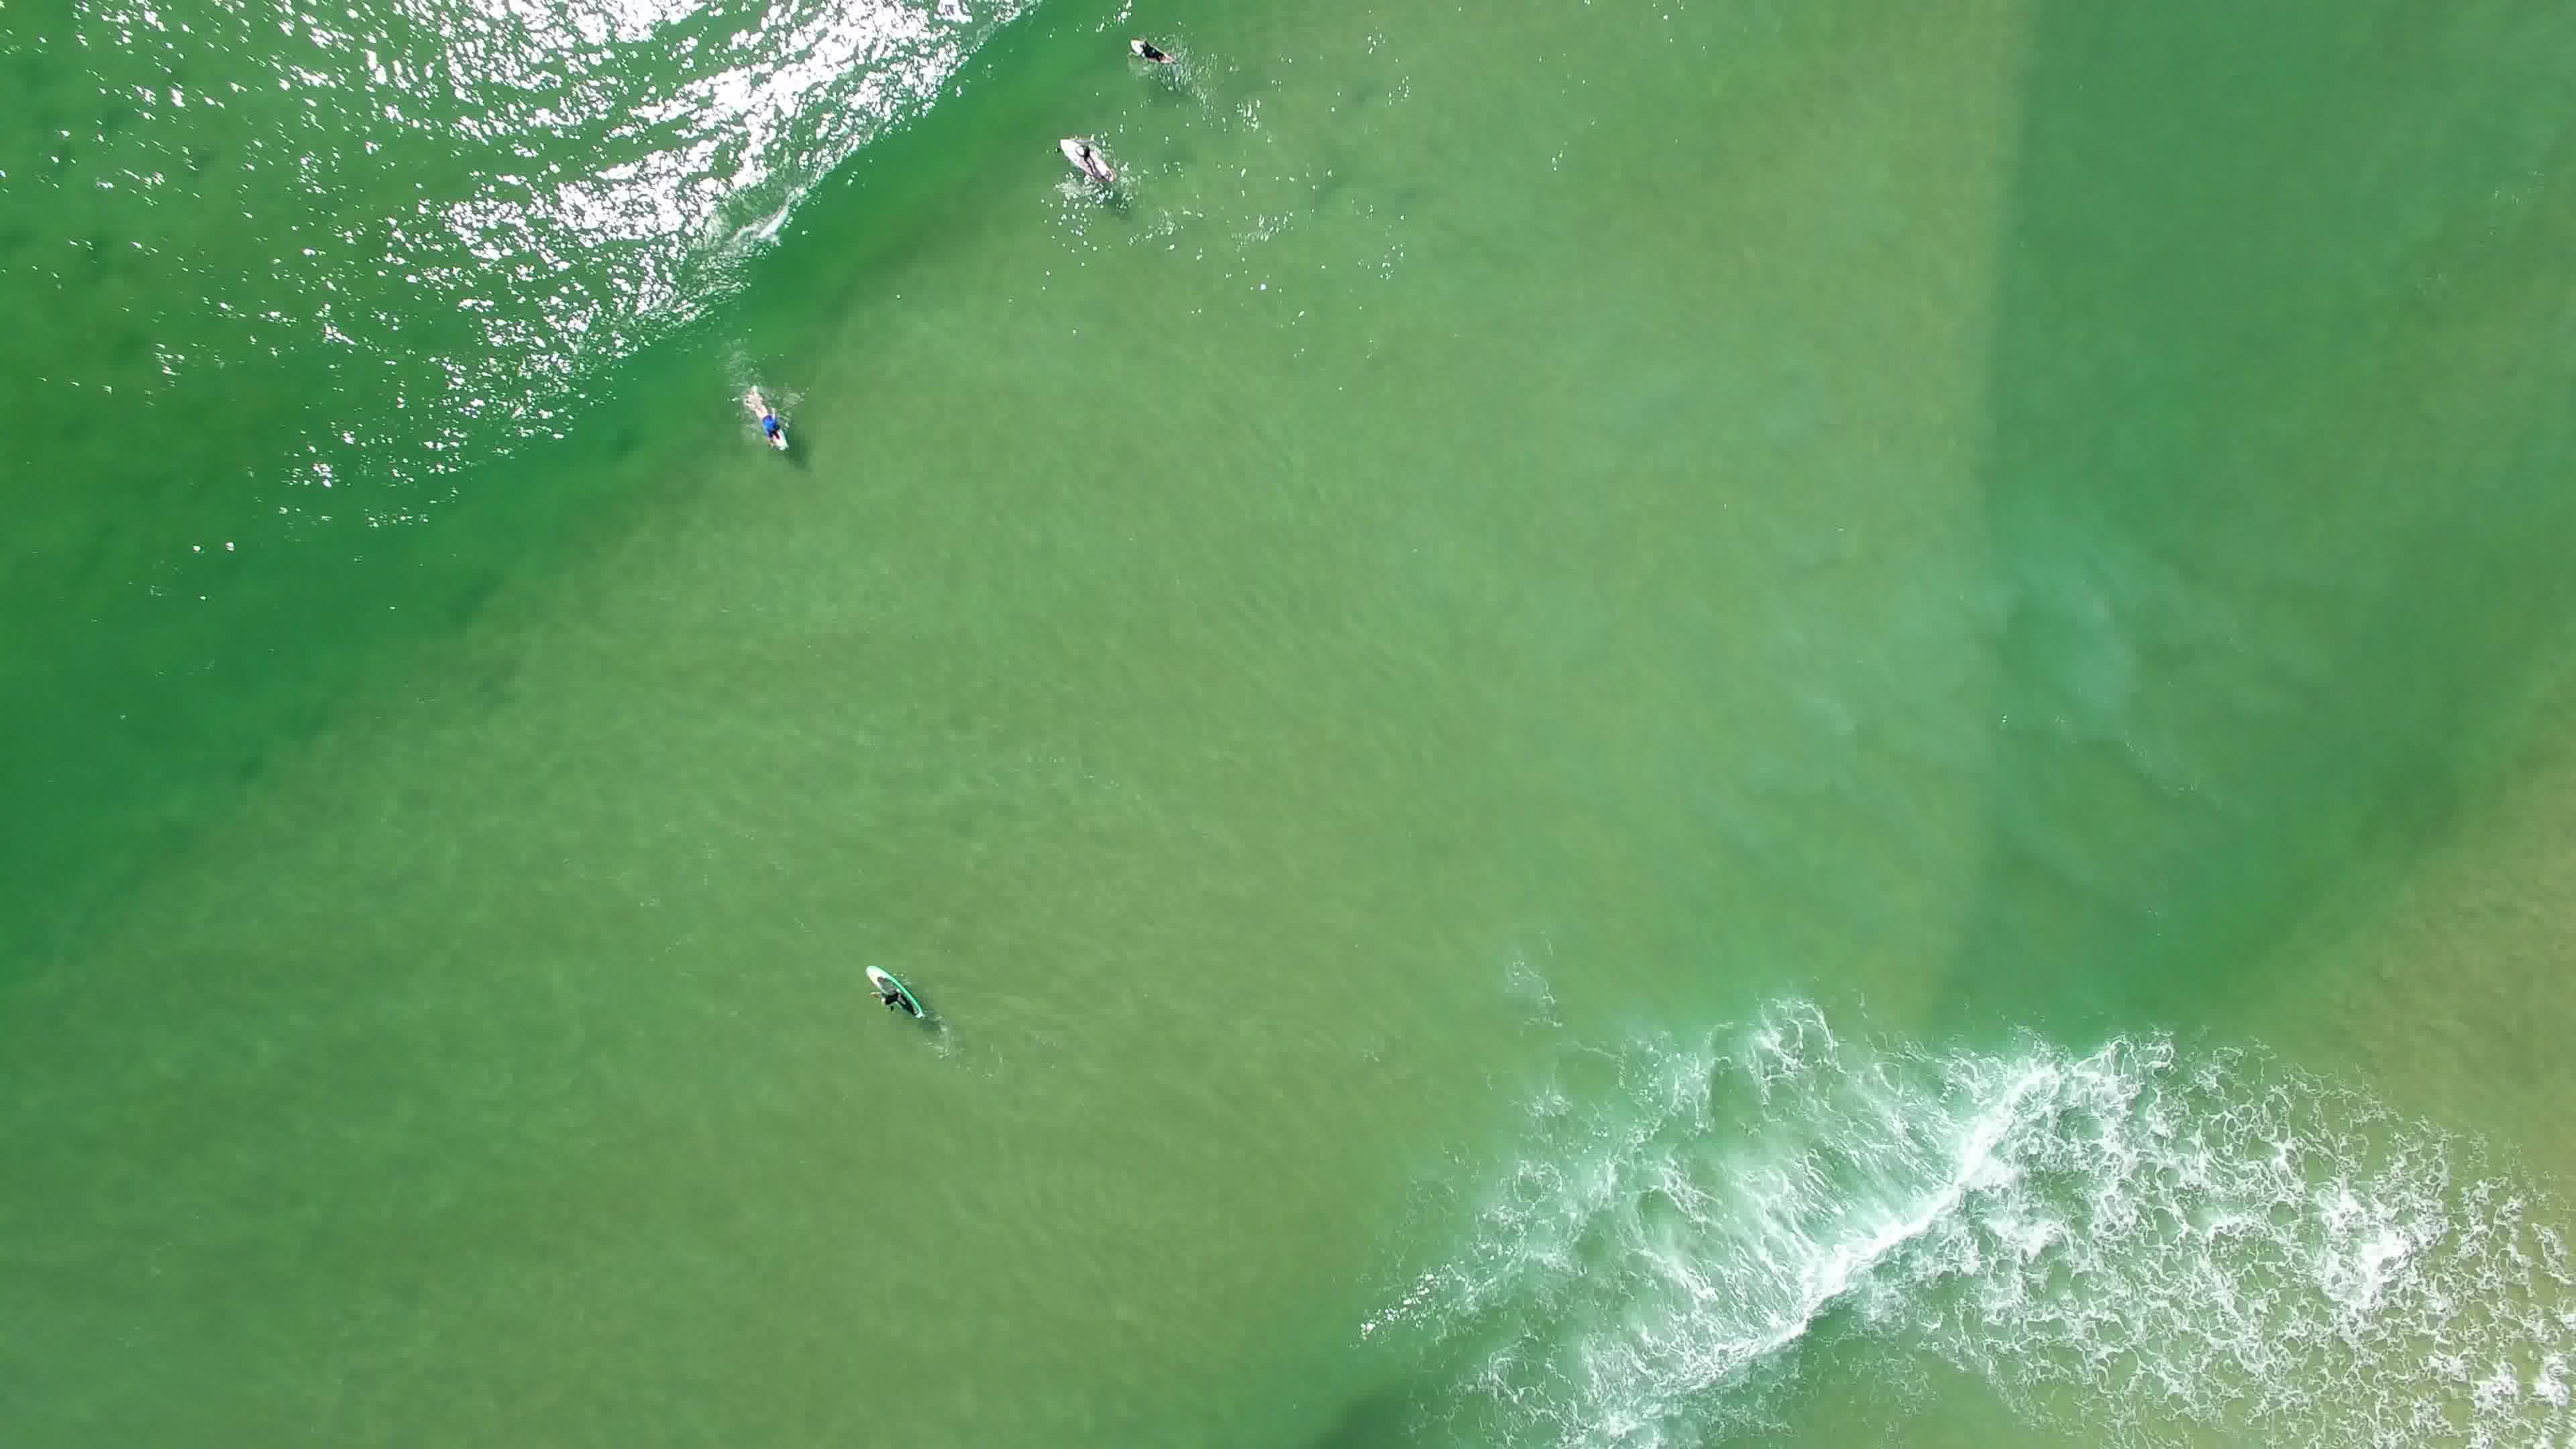surfer: (860, 955, 938, 1033), (1056, 126, 1122, 182), (750, 395, 796, 464), (1116, 30, 1184, 73)
